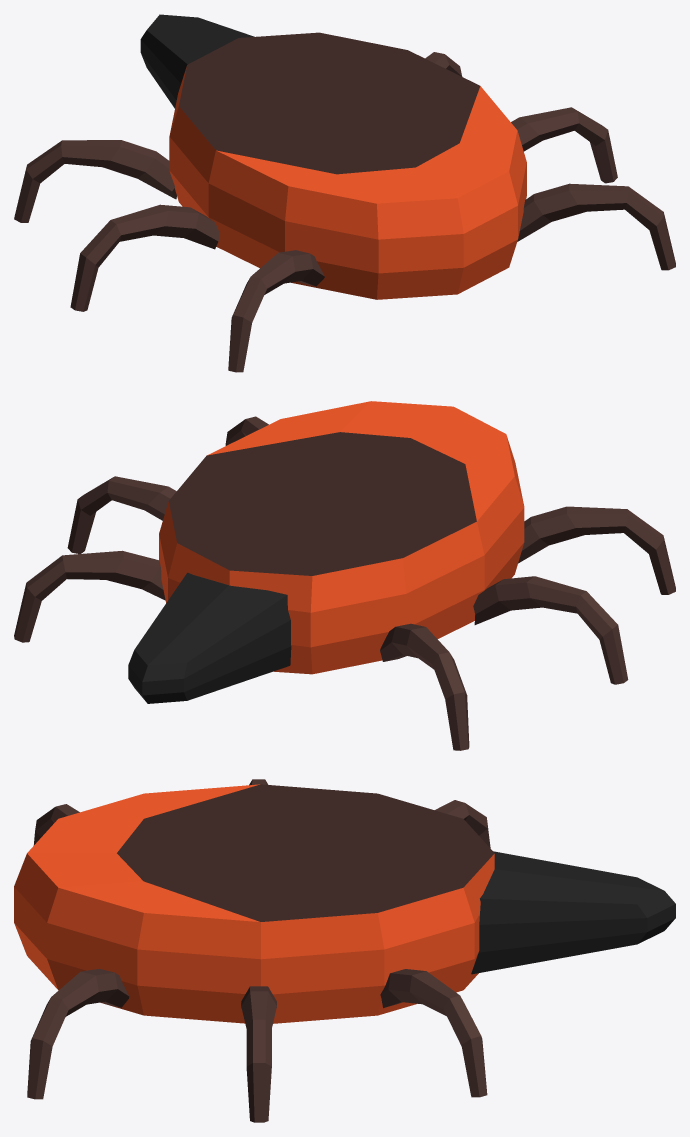
Rendered from klesh.fbx.
3 renders of one model, top to bottom at view 1: azimuth 30°, elevation 25°; view 2: azimuth 150°, elevation 25°; view 3: azimuth 270°, elevation 25°, orthographic. The views are drawn at different scales.
Parts seen in each view (by area): view 1: Cylinder, Cylinder.003, Cylinder.005, Cylinder.002, Cylinder.004, Cylinder.001, Cylinder.006; view 2: Cylinder, Cylinder.004, Cylinder.002, Cylinder.001, Cylinder.007, Cylinder.003, Cylinder.006, Cylinder.005; view 3: Cylinder, Cylinder.004, Cylinder.007, Cylinder.005, Cylinder.006, Cylinder.003, Cylinder.001.
Part boxes in pixels (x1,y1,x2,y2): Cylinder: [169, 32, 526, 299]; Cylinder.003: [14, 140, 176, 222]; Cylinder.005: [517, 183, 675, 270]; Cylinder.002: [70, 204, 219, 311]; Cylinder.004: [140, 14, 254, 108]; Cylinder.001: [228, 250, 324, 372]; Cylinder.006: [511, 107, 617, 183]; Cylinder: [159, 401, 524, 674]; Cylinder.004: [128, 572, 291, 703]; Cylinder.002: [473, 576, 628, 684]; Cylinder.001: [518, 506, 675, 594]; Cylinder.007: [14, 550, 165, 642]; Cylinder.003: [380, 623, 469, 750]; Cylinder.006: [67, 476, 176, 553]; Cylinder.005: [225, 416, 268, 445]; Cylinder: [14, 784, 494, 1023]; Cylinder.004: [471, 851, 675, 974]; Cylinder.007: [380, 969, 487, 1097]; Cylinder.005: [27, 968, 129, 1099]; Cylinder.006: [241, 986, 276, 1122]; Cylinder.003: [435, 800, 490, 847]; Cylinder.001: [33, 804, 79, 845].
Size of the model in its own units: 411 by 91.4 by 406.
